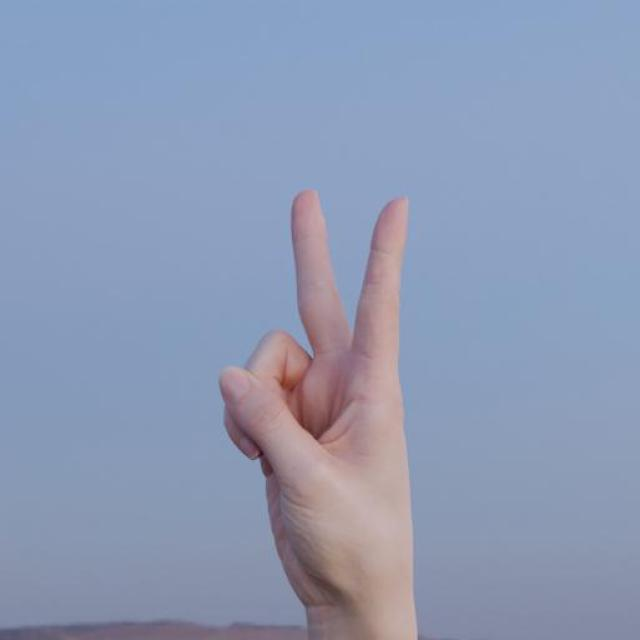V: (223, 175, 422, 610)
